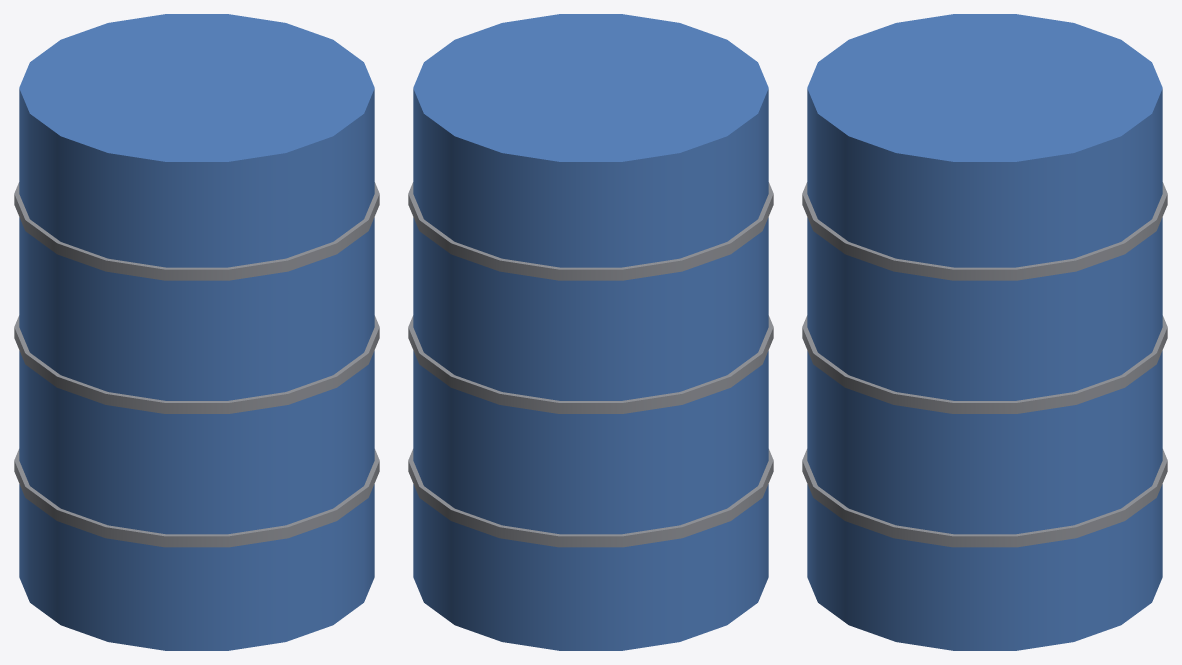
File: oil_drum.glb
3 renders of one model, left to right at view 1: azimuth 30°, elevation 25°; view 2: azimuth 150°, elevation 25°; view 3: azimuth 270°, elevation 25°, orthographic.
Parts seen in each view (by area): view 1: oil_drum; view 2: oil_drum; view 3: oil_drum.
Boxes of the visible parts, box(x1,y1,x2,y2) form: oil_drum: box(14, 14, 379, 650); oil_drum: box(408, 14, 773, 650); oil_drum: box(802, 14, 1167, 650).
Bounding box in the file's own units: 0.5869 × 0.88 × 0.596.
